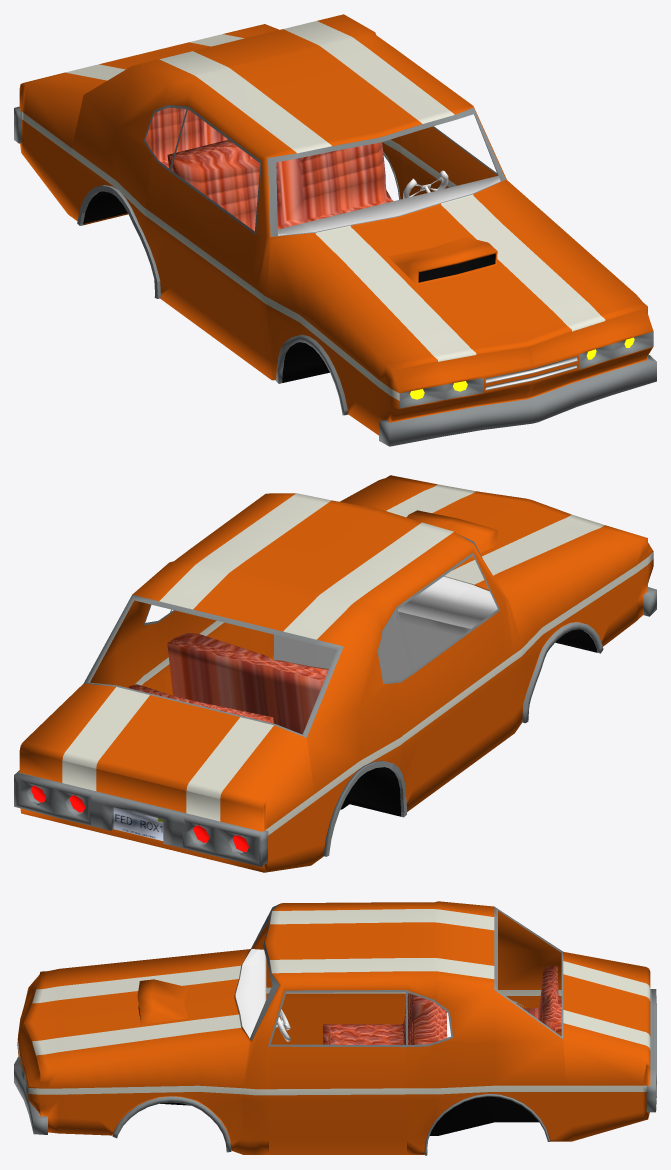
The model's file is carbody2.glb.
3 views of the same model, one above another, from view 1: azimuth 30°, elevation 25°; view 2: azimuth 150°, elevation 25°; view 3: azimuth 270°, elevation 25° (orthographic). The views are drawn at different scales.
Visible parts, largest first — view 1: Cube.036; view 2: Cube.036; view 3: Cube.036.
Boxes of the visible parts, <box> form: Cube.036: <box>14,14,656,446</box>; Cube.036: <box>14,475,656,872</box>; Cube.036: <box>14,901,656,1155</box>.
Size of the model in its own units: 4.86 by 3.55 by 12.39.
12 materials, 2 textured.
